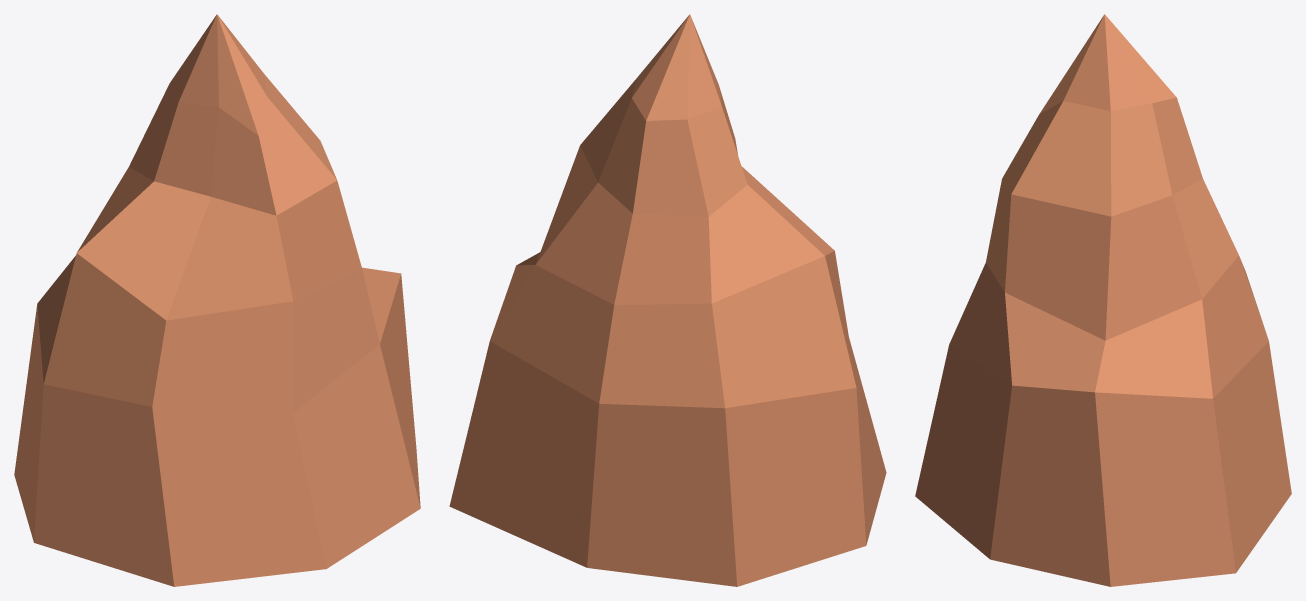
File: Mountain.fbx
3 views of the same model, side by side, from view 1: azimuth 30°, elevation 25°; view 2: azimuth 150°, elevation 25°; view 3: azimuth 270°, elevation 25° (orthographic). The views are drawn at different scales.
Parts seen in each view (by area): view 1: Mountain; view 2: Mountain; view 3: Mountain.
Boxes of the visible parts, x1,y1,x2,y2 form: Mountain: [14, 14, 420, 586]; Mountain: [449, 14, 886, 586]; Mountain: [915, 14, 1291, 586].
Bounding box in the file's own units: 20.9 × 25.44 × 18.23.
